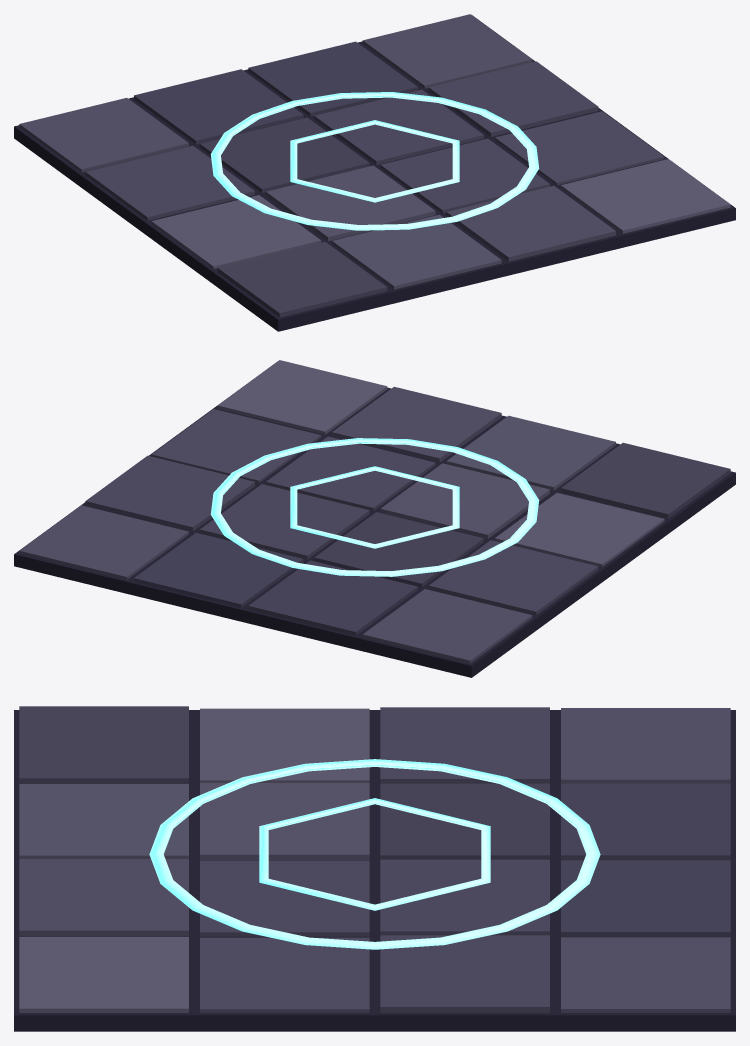
The model's file is dun_floor_rune.glb.
3 renders of one model, top to bottom at view 1: azimuth 30°, elevation 25°; view 2: azimuth 150°, elevation 25°; view 3: azimuth 270°, elevation 25°, orthographic. The views are drawn at different scales.
Visible parts, largest first — view 1: dun_floor_rune; view 2: dun_floor_rune; view 3: dun_floor_rune.
Part boxes in pixels (x1,y1,x2,y2): dun_floor_rune: (14,14,735,331); dun_floor_rune: (14,360,735,677); dun_floor_rune: (14,706,735,1031).
Size of the model in its own units: 4 by 0.163 by 4.
